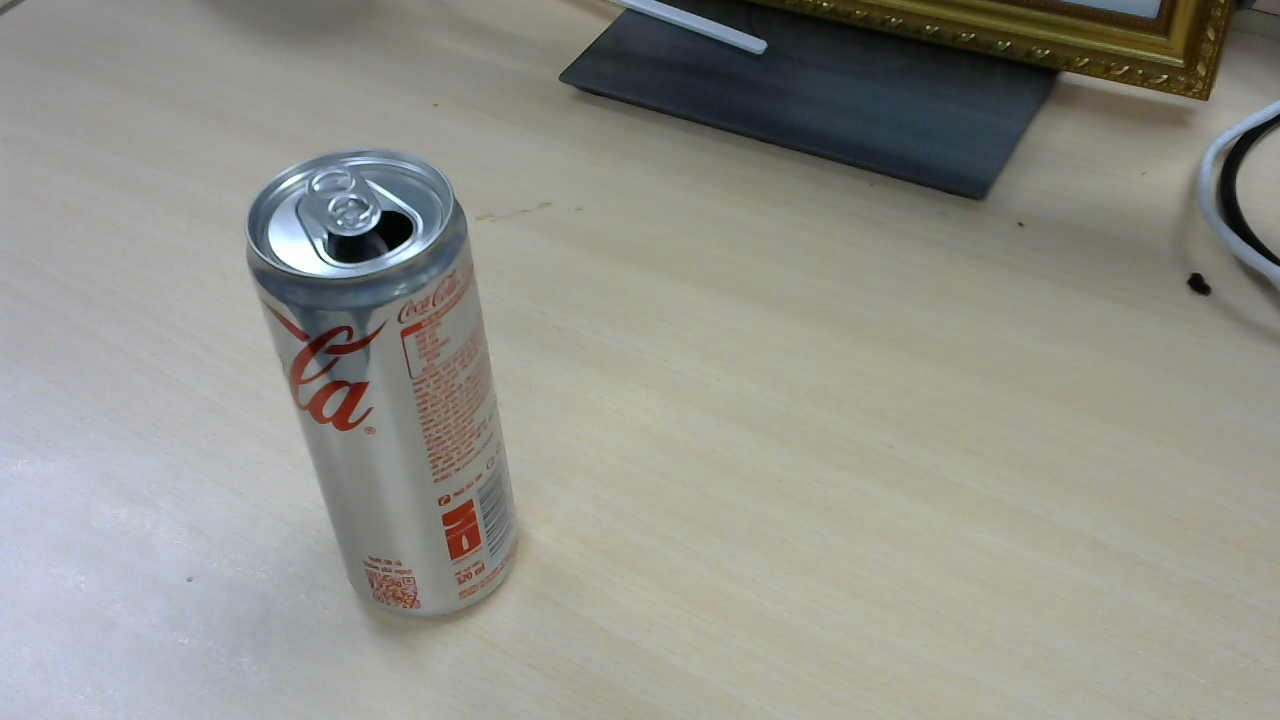Coca_Cola: (249, 155, 529, 624)
